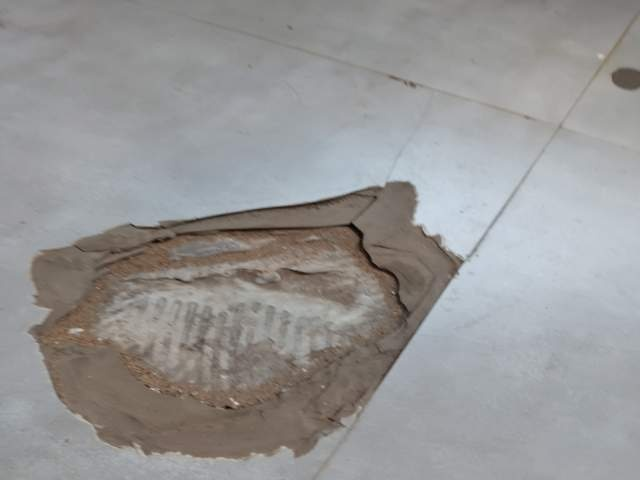pothole: (250, 305, 640, 480)
